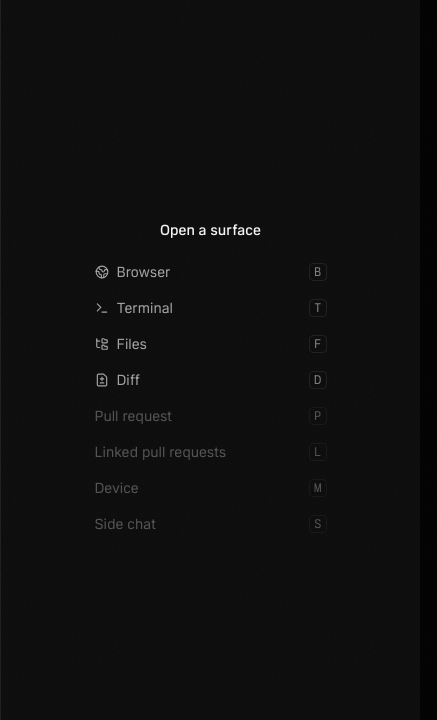
Test: RightPanel surfaces › opens Diff from the centered list without top tab-icon buttons and returns via 'Back to surfaces'
Click the button "Diff D". click: (210, 380)
box: [82,364,338,396]
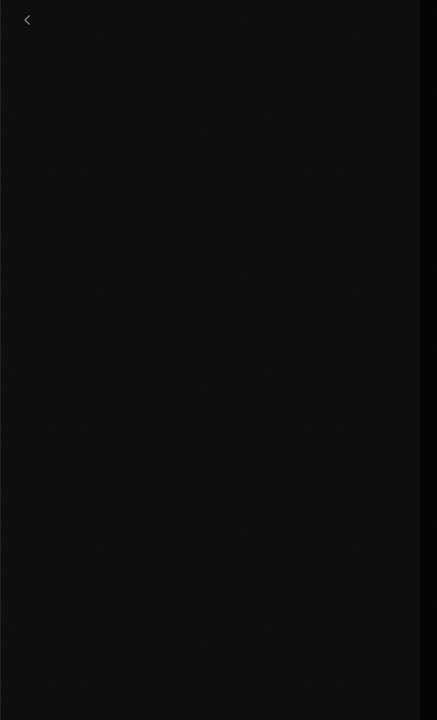
Now the text "Open a surface" is gone
Now the number of buttons is 1
Now the button "Browser" is gone
Click the button named "Back to surfaces". click: (27, 20)
box: [13,6,41,34]
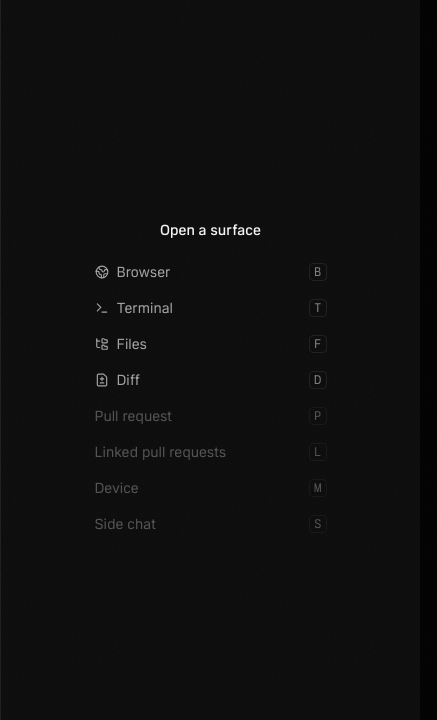
Now the text "Open a surface" is shown, box [160,220,261,240]
